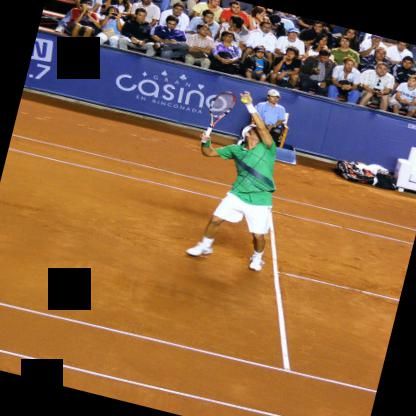backpack: (337, 161, 375, 184)
